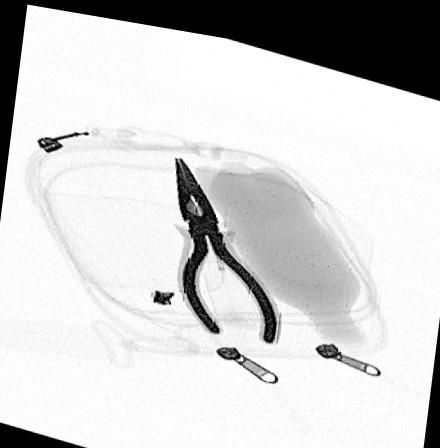Pliers: (169, 147, 281, 335)
